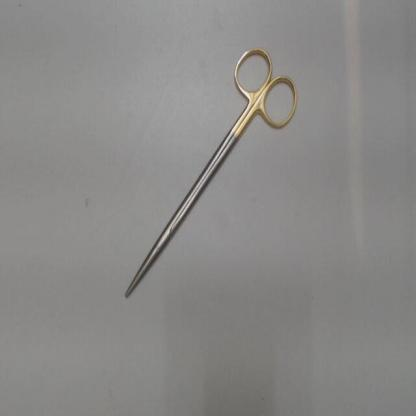7 Metzenbaum Scissors: (124, 42, 300, 301)
